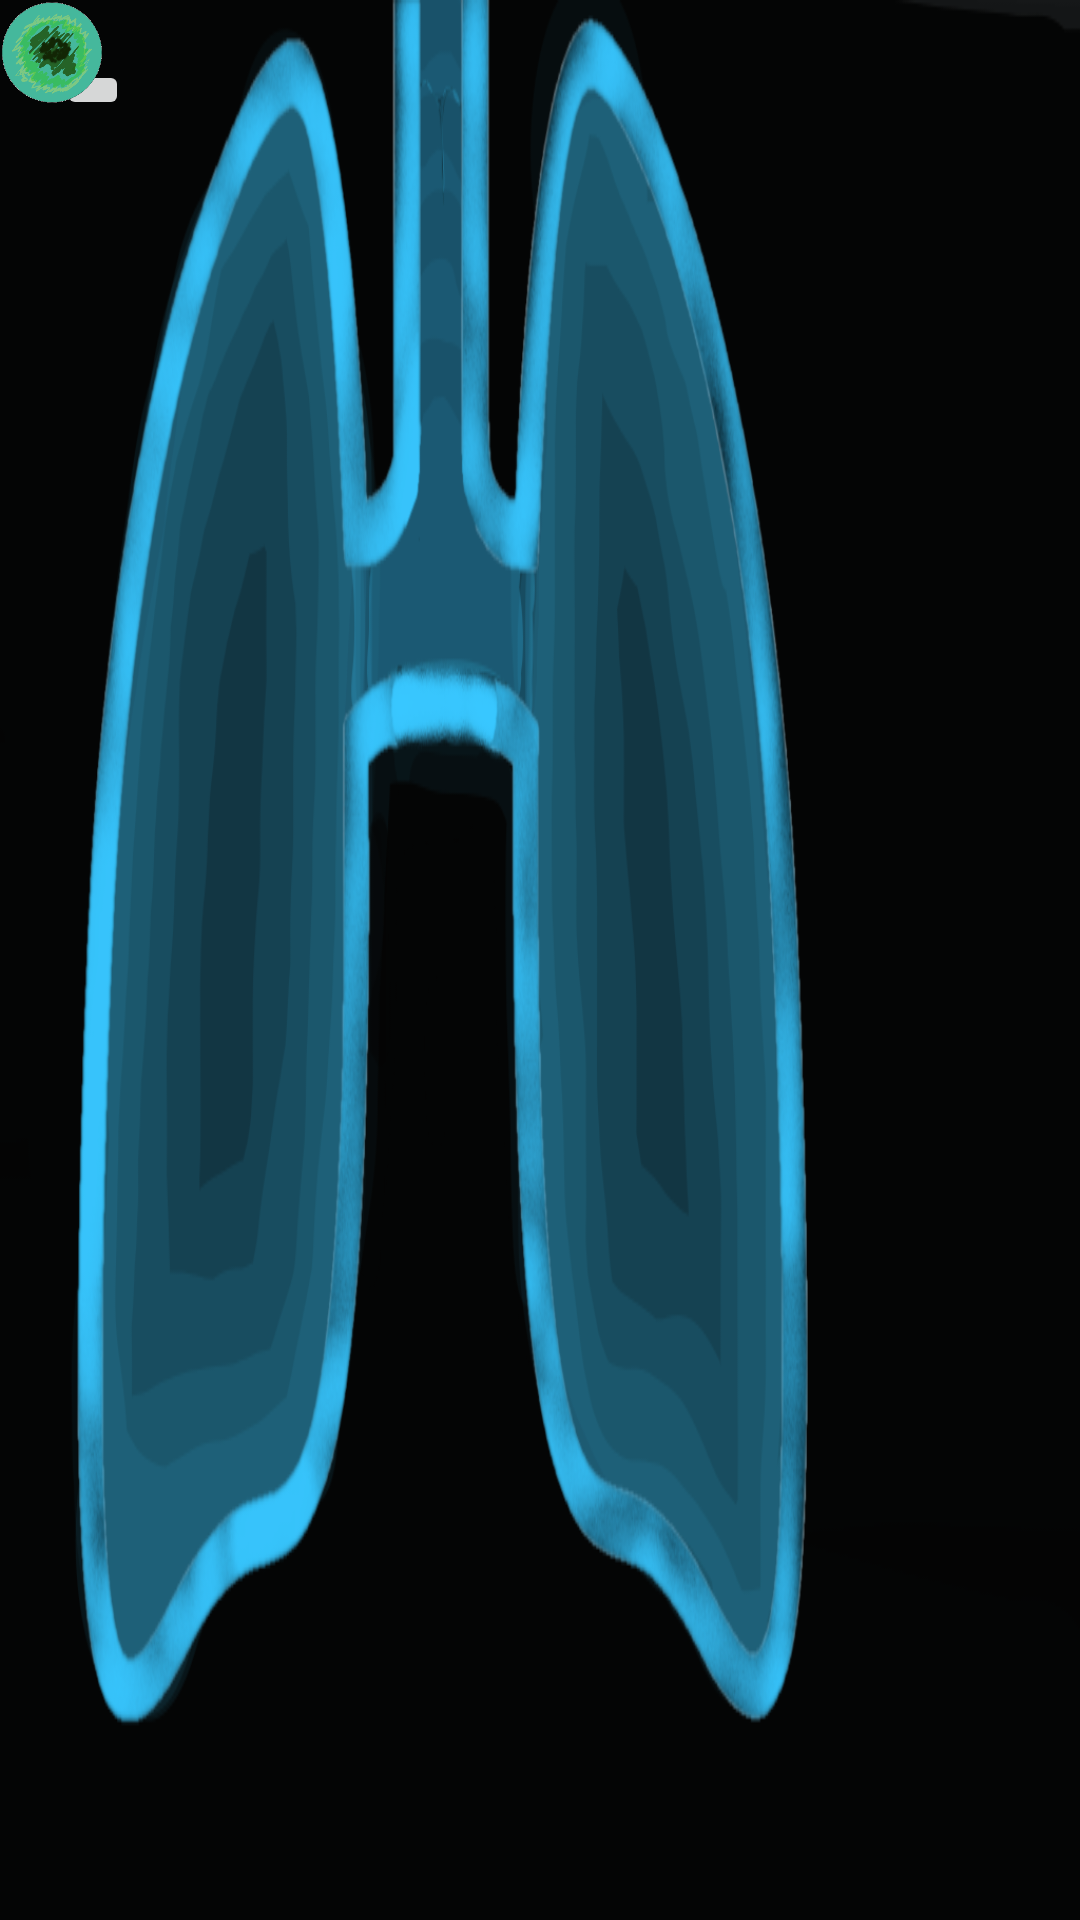

Point at icon controls on the screen. Image size 1080w x 1920h, points as (x=x, y=y).
aspergillus: (x=53, y=52)
